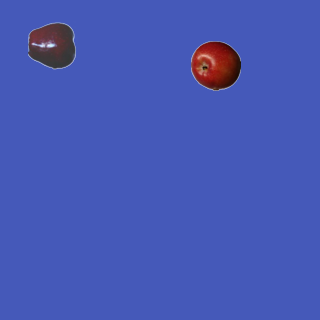Apple Braeburn: (190, 40, 240, 90)
Apple Red Delicious: (27, 20, 77, 70)
